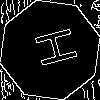H: (25, 25, 78, 72)
